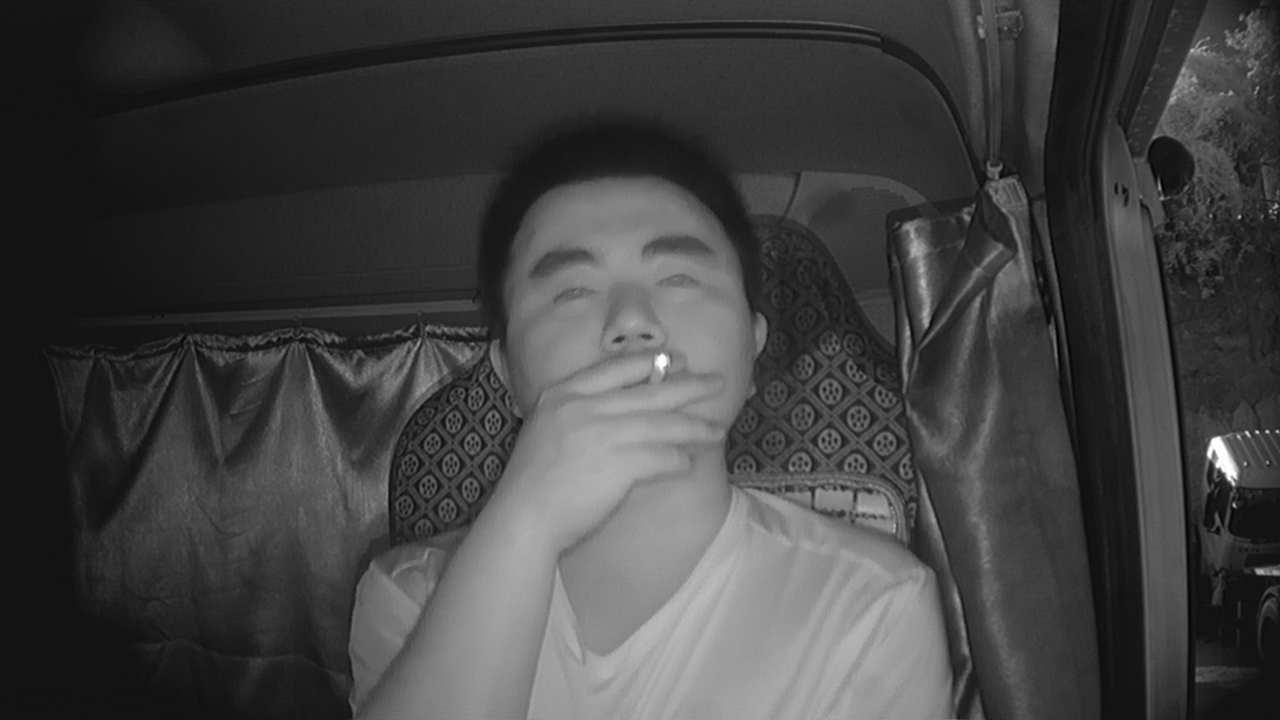hand: (584, 346, 721, 500)
